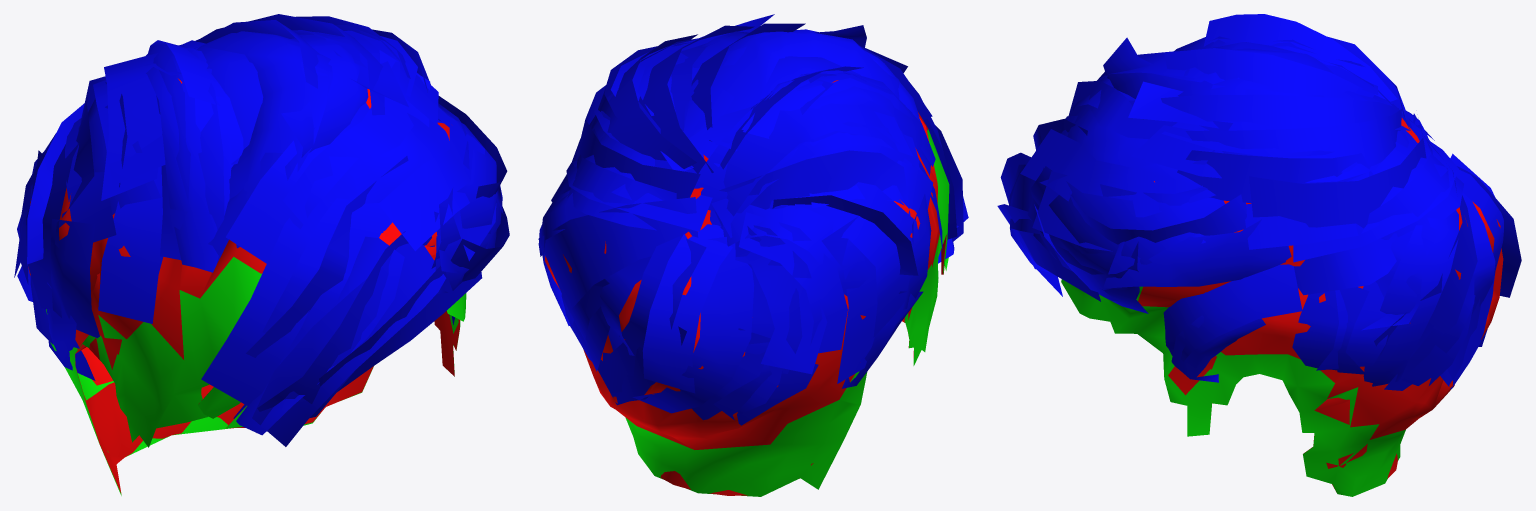
Rendered from hair_004.obj.
3 renders of one model, left to right at view 1: azimuth 30°, elevation 25°; view 2: azimuth 150°, elevation 25°; view 3: azimuth 270°, elevation 25°, orthographic. The views are drawn at different scales.
Size of the model in its own units: 19.45 by 21.82 by 24.37.
